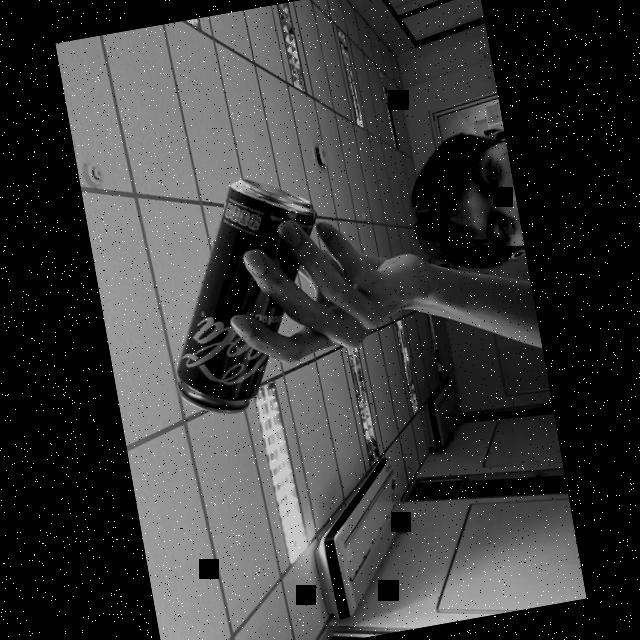can: (126, 157, 351, 420)
